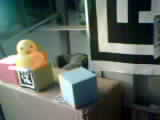duck: (8, 37, 38, 63)
